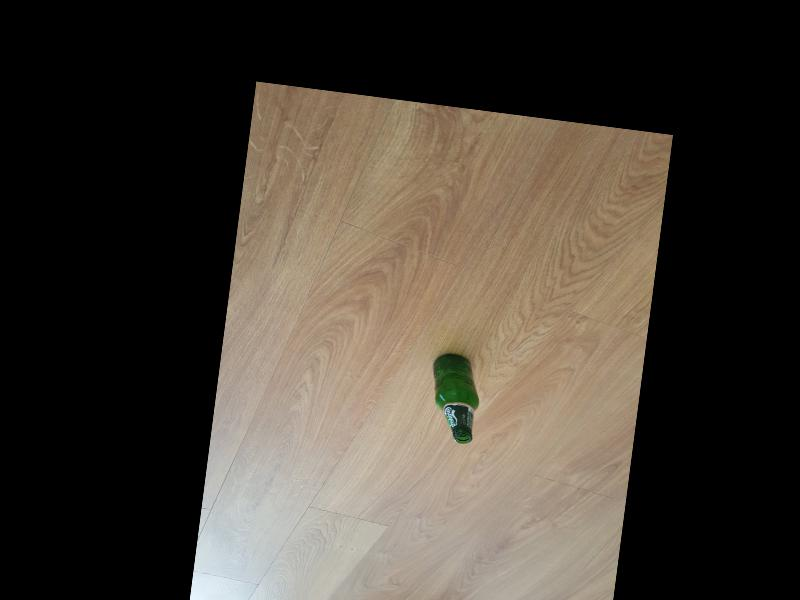Beer: (422, 350, 485, 446)
